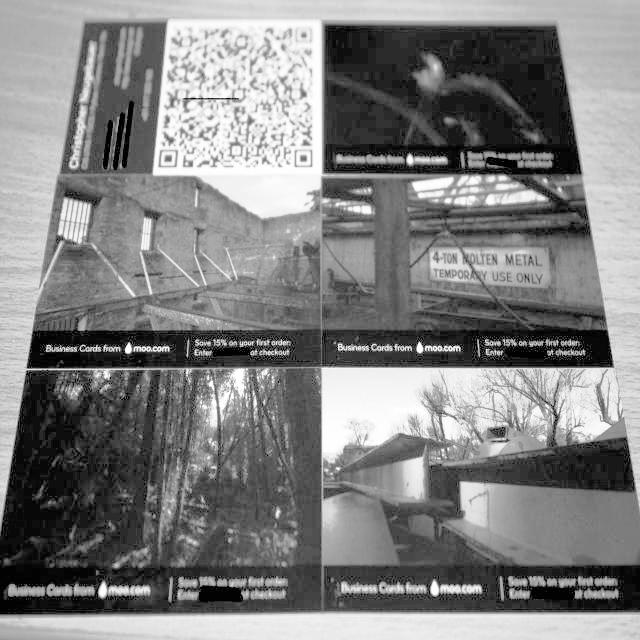qr_code: (159, 27, 313, 167)
